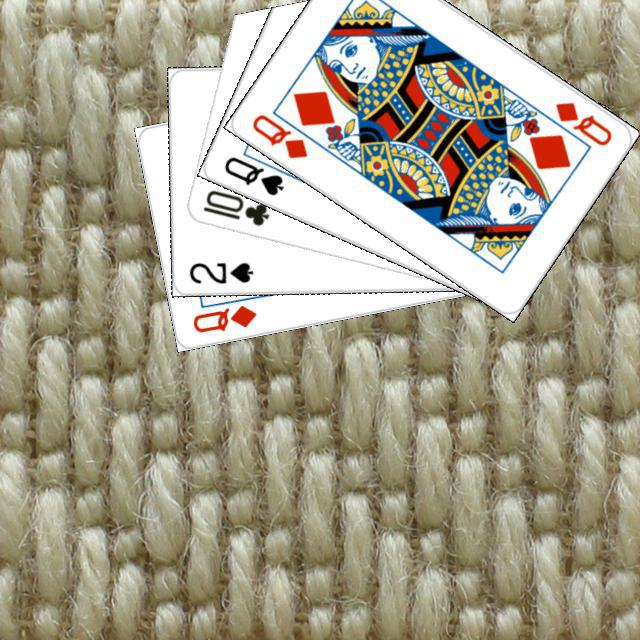10c: (198, 185, 271, 228)
2s: (184, 257, 255, 286)
Qd: (550, 96, 614, 148), (247, 109, 309, 161), (188, 300, 258, 335)
Qs: (219, 151, 285, 198)
